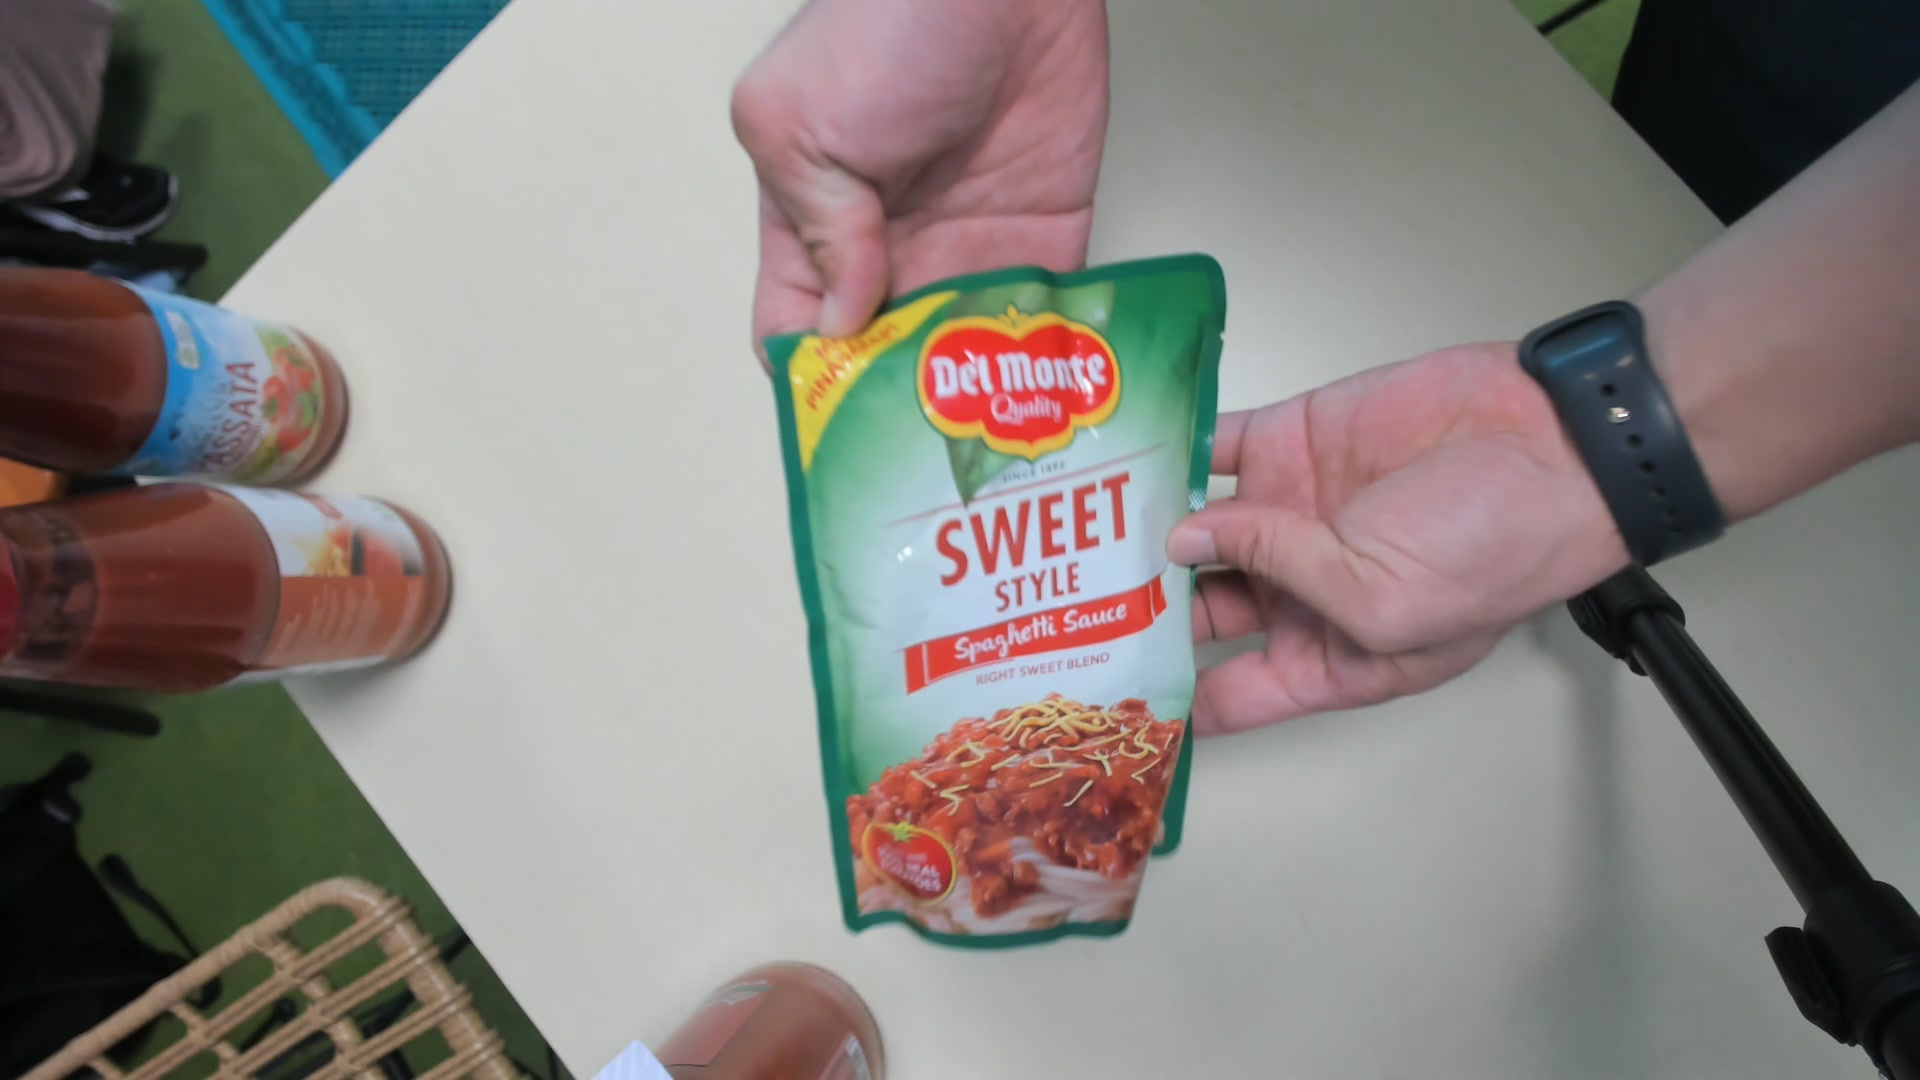PastaSauce_500-599g_Halal_NonHealthy: (785, 262, 1205, 957)
